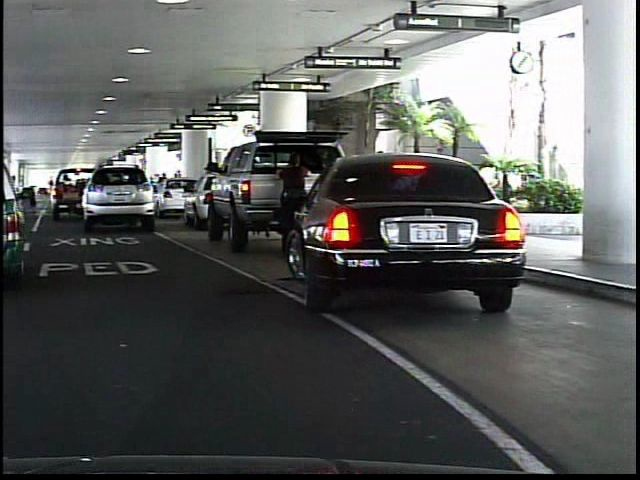person: (266, 149, 316, 253)
